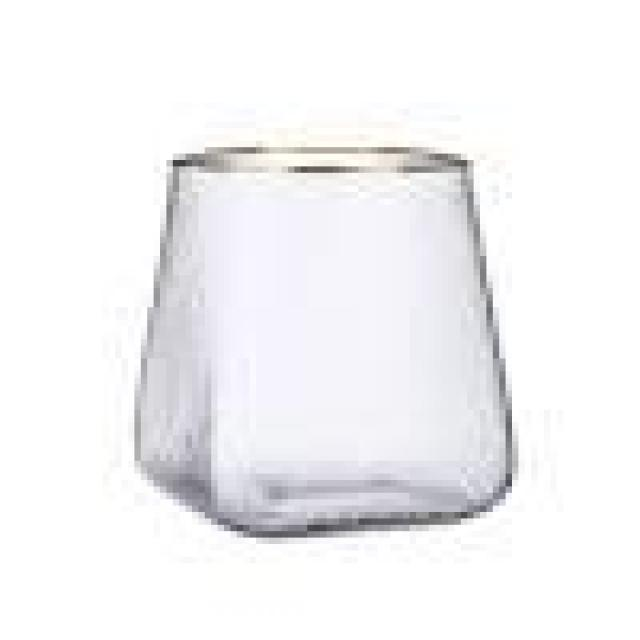non-organic waste: (124, 134, 522, 544)
